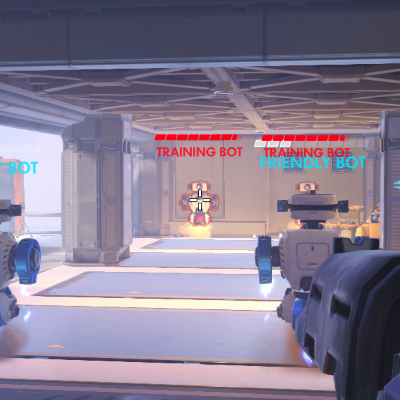hpbar: (154, 134, 243, 141), (262, 135, 351, 141)
